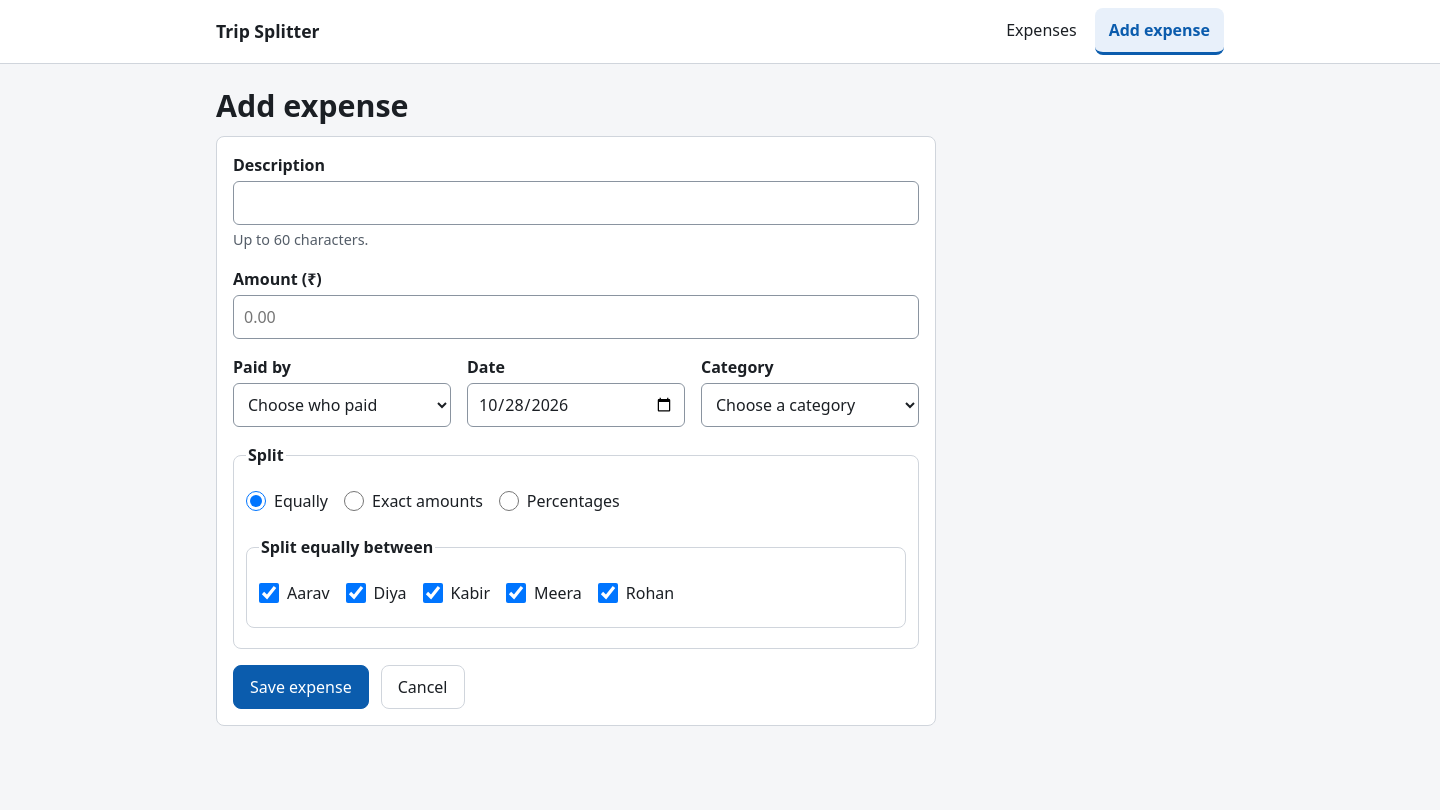
it: Add expense form: invalid input › shows an error next to every invalid field and saves nothing
Type "-5" into the field labelled "Amount (₹)" at [576, 317], box [233,295,919,339]
Click the checkbox labelled "Aarav" at [269, 593], box [259,583,279,603]
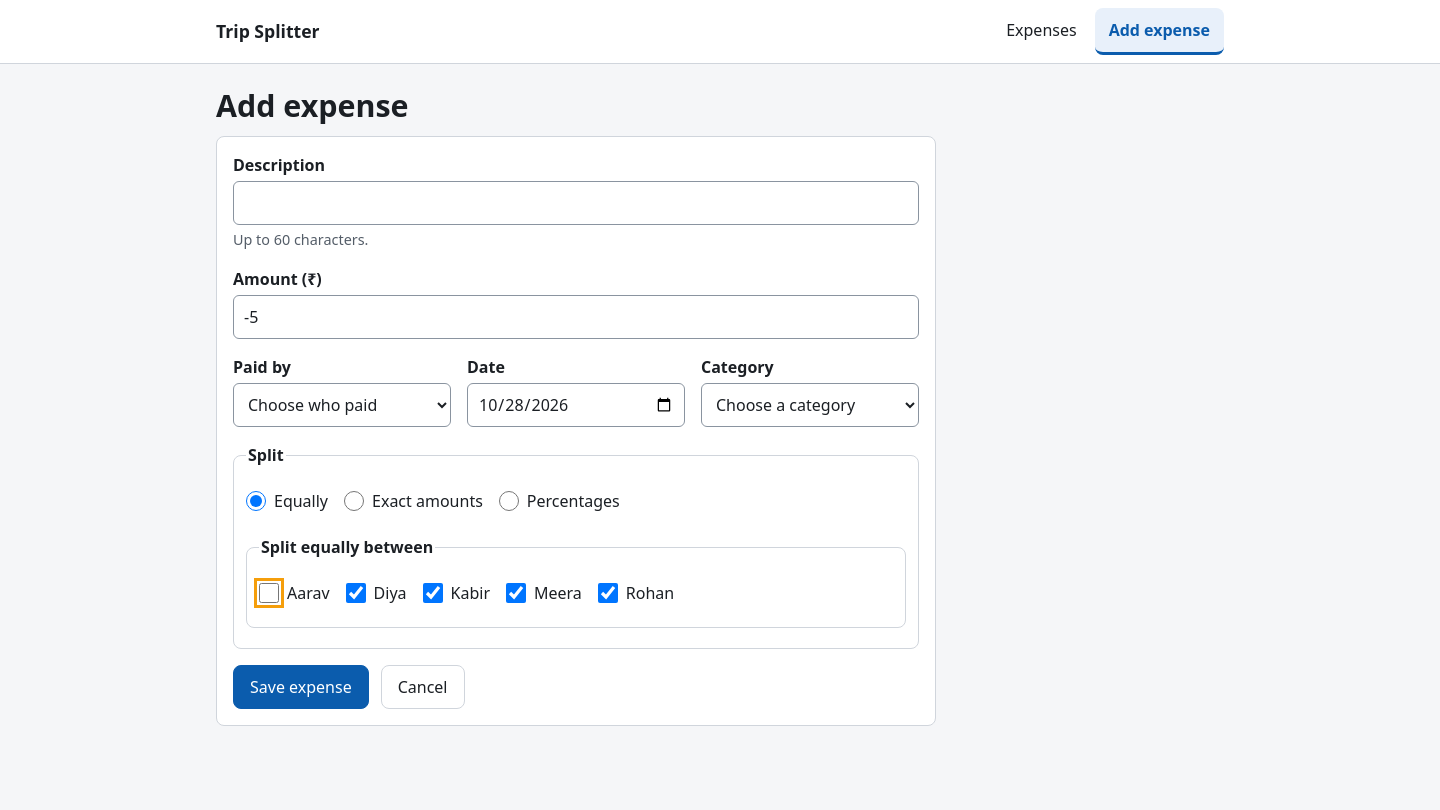
Click the checkbox labelled "Diya" at [356, 593], box [346,583,366,603]
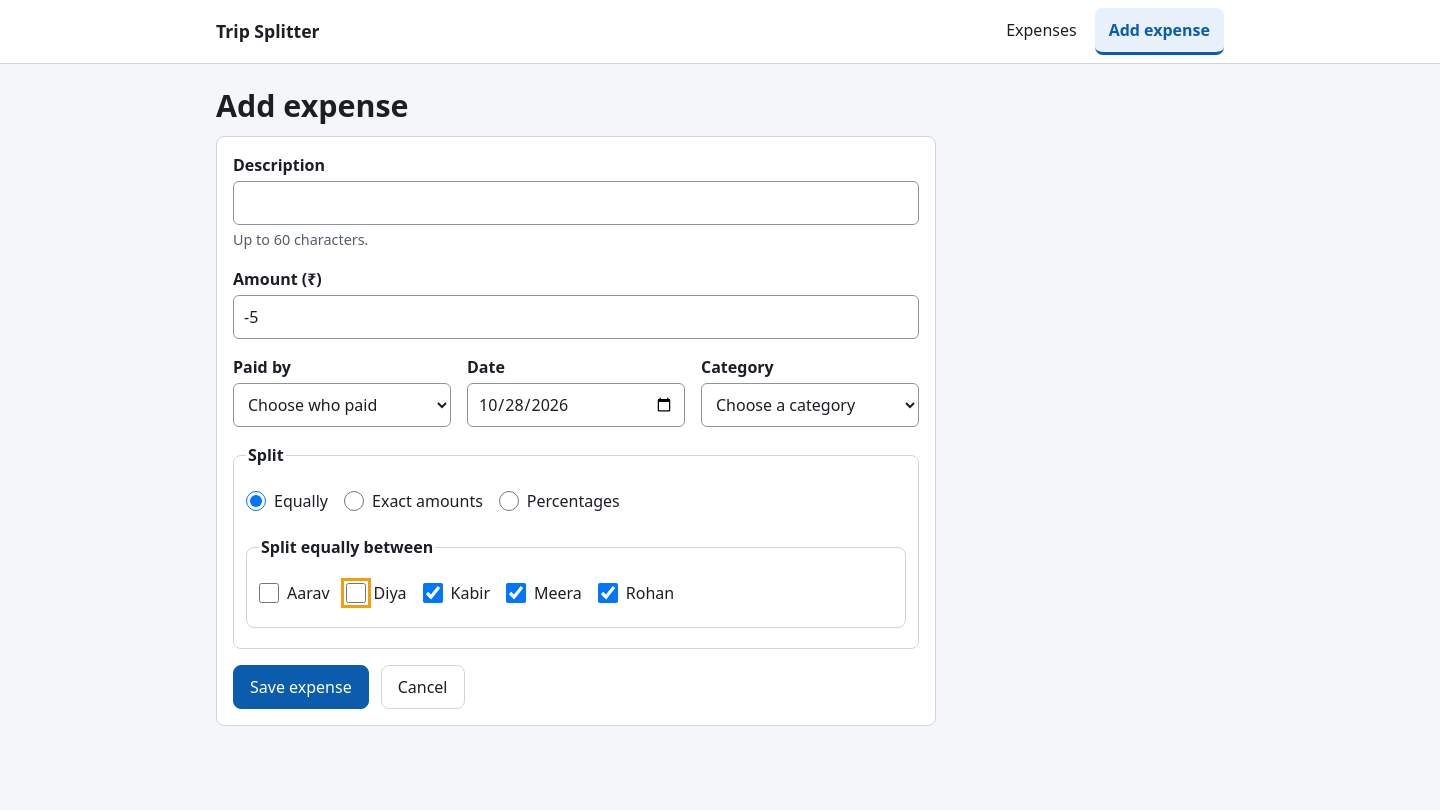
Click the checkbox labelled "Kabir" at [432, 593], box [422,583,442,603]
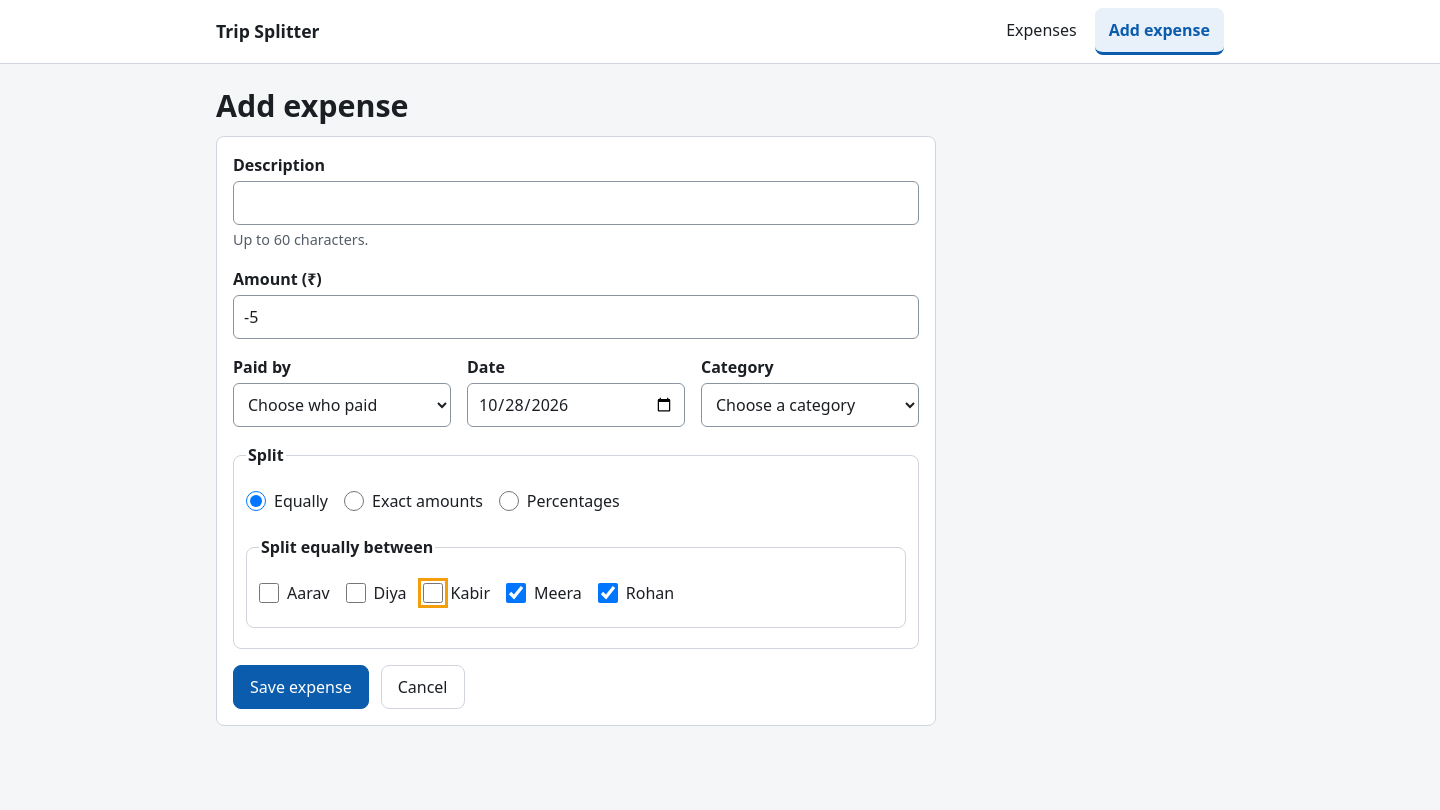
Click the checkbox labelled "Meera" at [516, 593], box [506,583,526,603]
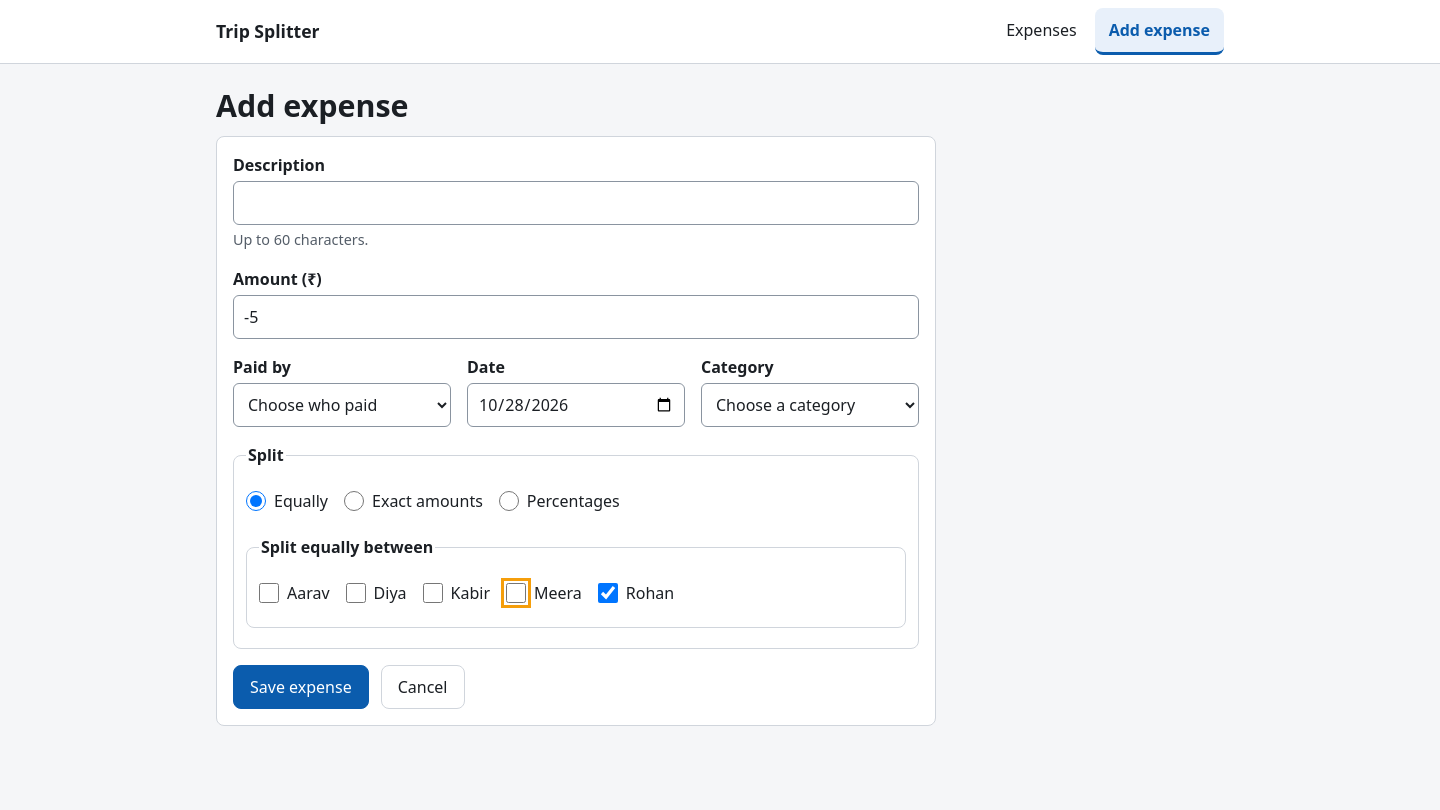
Click the checkbox labelled "Rohan" at [608, 593], box [598,583,618,603]
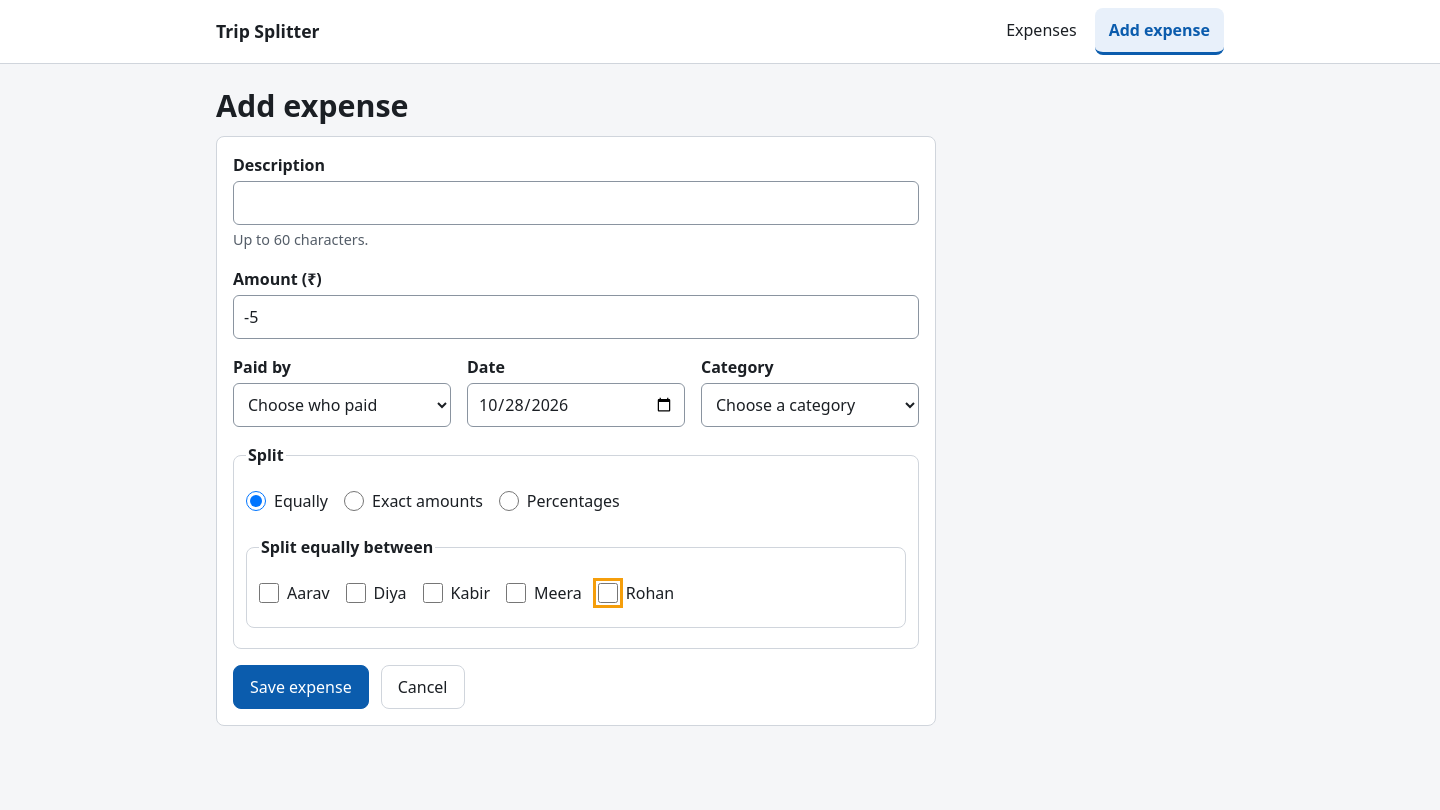
Click the button "Save expense" at [301, 687], box [233,665,369,709]
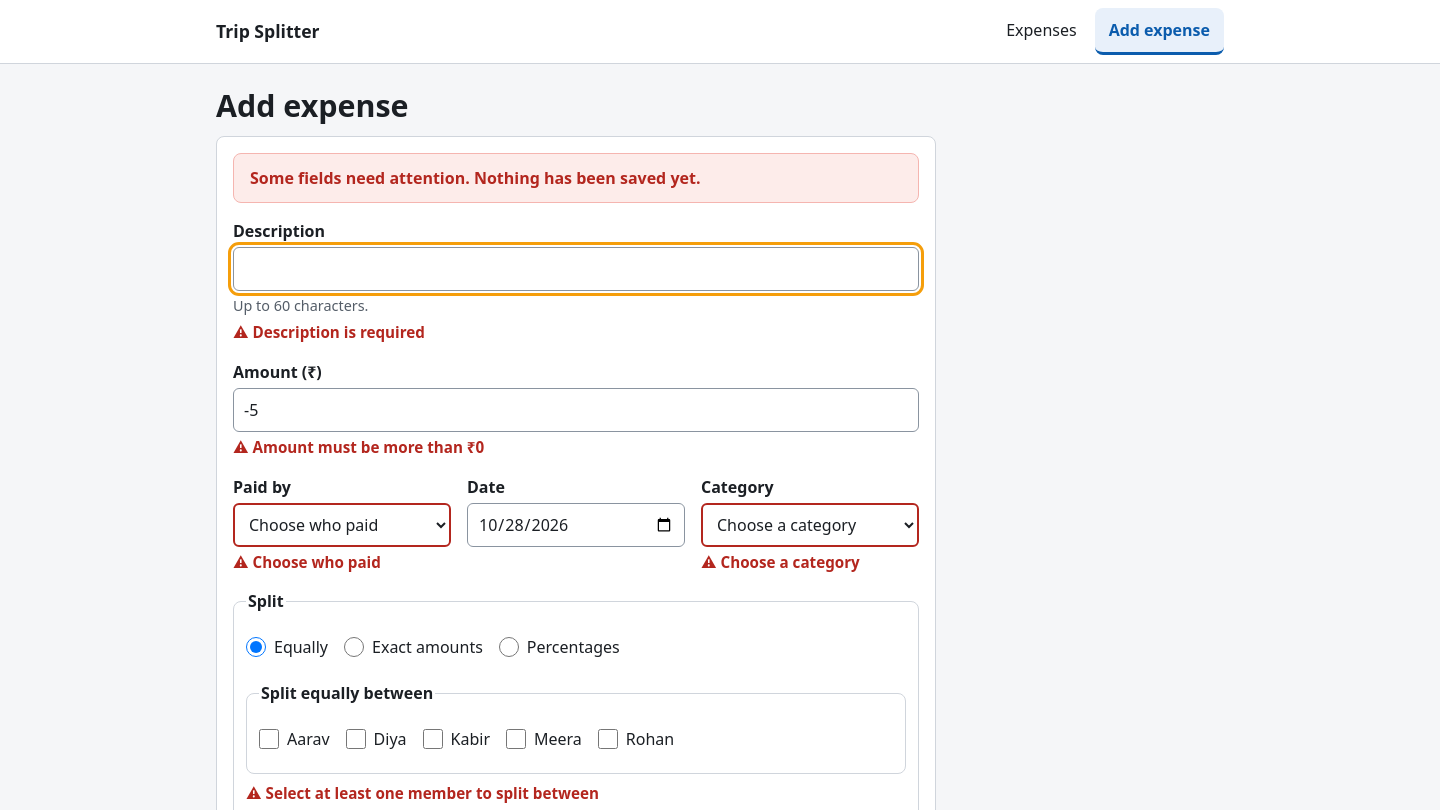
Expected: the heading "Add expense" is shown, [216,85,408,126]
Result: the message shows "Nothing has been saved yet" at [250,168,700,190]
